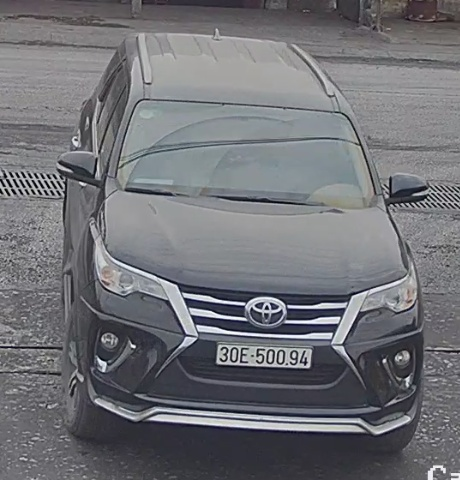vehicle plate: (212, 340, 326, 371)
